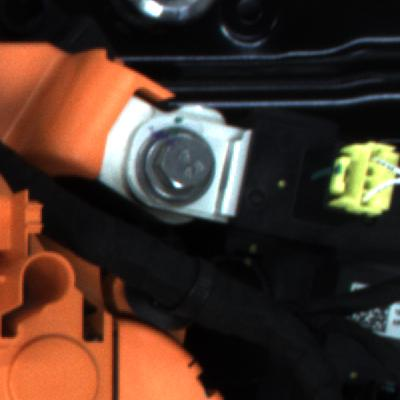nut_b: (128, 119, 224, 210)
